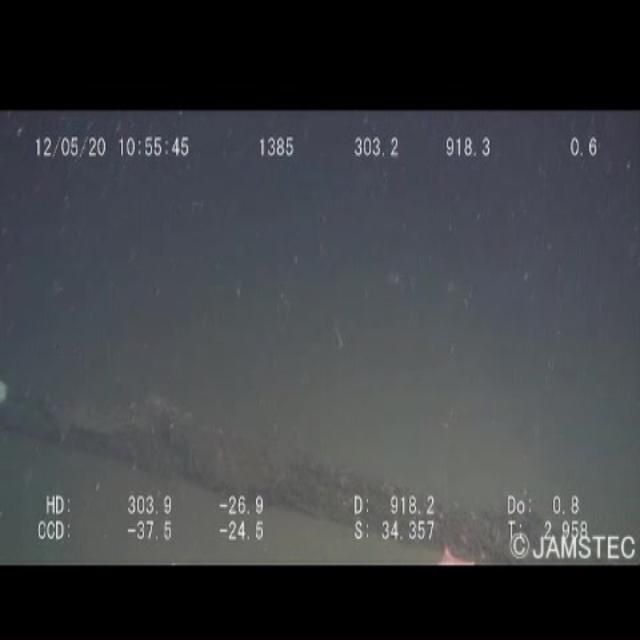Rope: (0, 317, 621, 545)
